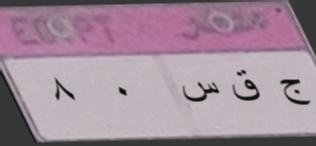0: (113, 85, 132, 100)
8: (52, 76, 76, 109)
jeem: (277, 71, 312, 112)
qaaf: (227, 65, 264, 105)
seen: (181, 78, 221, 110)
